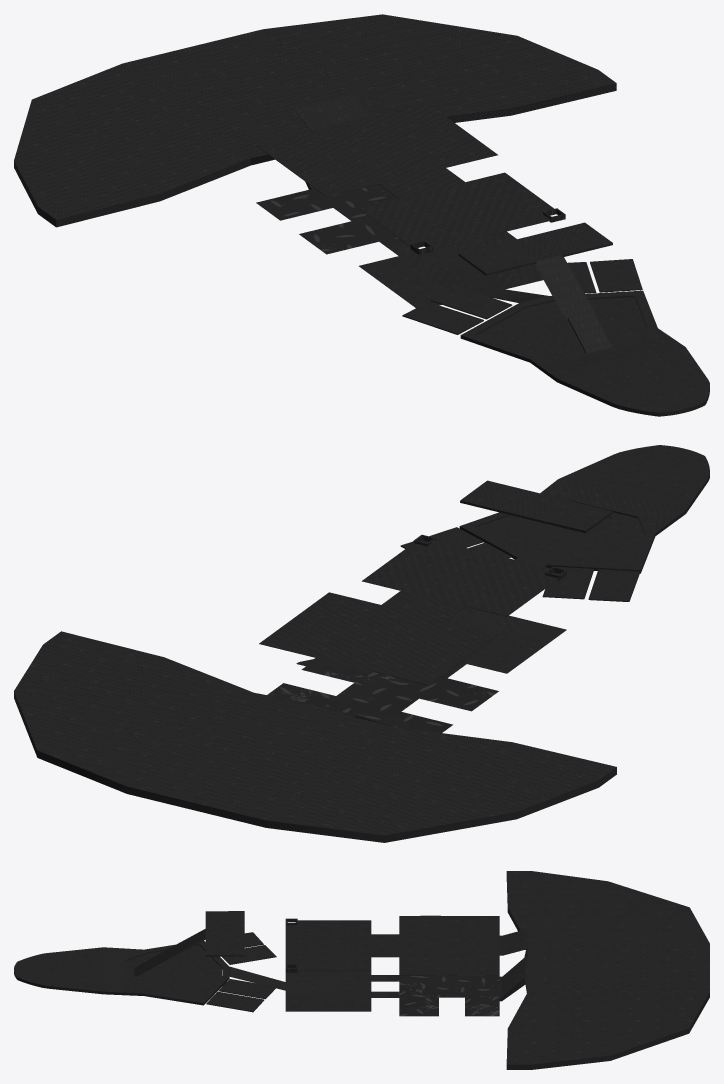
File: small floor.fbx
The picture shows the model from 3 angles, top to bottom: view 1: azimuth 30°, elevation 25°; view 2: azimuth 150°, elevation 25°; view 3: azimuth 270°, elevation 25°; orthographic projection. The views are drawn at different scales.
Parts seen in each view (by area): view 1: EngineRoomFloor, Top Rooms Floor/ Bottom Rooms Ceiling, FrontRoomFloor, Cockpit Ramp, ModularRoomFloor.003, FrontRoomFloorDivet, ModularRoomFloor, Upper Corridor 1 Floor, Bedroom4Floor, Bedroom2Floor, Bedroom1Floor; view 2: EngineRoomFloor, Top Rooms Floor/ Bottom Rooms Ceiling, FrontRoomFloor, ModularRoomFloor, FrontRoomFloorDivet, ModularRoomFloor.003, Cockpit Ramp, Bedroom1Floor, Bedroom2Floor, Upper Corridor 1 Floor, Bedroom4Floor; view 3: EngineRoomFloor, Top Rooms Floor/ Bottom Rooms Ceiling, FrontRoomFloor, ModularRoomFloor.003, ModularRoomFloor, FrontRoomFloorDivet, Cockpit Ramp, Bedroom4Floor, Bedroom3Floor, Upper Corridor 1 Floor, Bedroom2Floor.
Part boxes in pixels (x1,y1,x2,y2): EngineRoomFloor: (14, 14, 616, 227); Top Rooms Floor/ Bottom Rooms Ceiling: (256, 103, 565, 254); FrontRoomFloor: (460, 290, 709, 416); Cockpit Ramp: (458, 222, 612, 353); ModularRoomFloor.003: (359, 231, 547, 307); FrontRoomFloorDivet: (477, 297, 646, 360); ModularRoomFloor: (256, 184, 547, 302); Upper Corridor 1 Floor: (293, 94, 369, 130); Bedroom4Floor: (590, 259, 642, 292); Bedroom2Floor: (430, 286, 512, 319); Bedroom1Floor: (402, 302, 483, 334); EngineRoomFloor: (14, 631, 616, 842); Top Rooms Floor/ Bottom Rooms Ceiling: (259, 534, 566, 685); FrontRoomFloor: (459, 445, 709, 573); ModularRoomFloor: (267, 565, 546, 732); FrontRoomFloorDivet: (476, 512, 644, 565); ModularRoomFloor.003: (448, 558, 566, 673); Cockpit Ramp: (460, 480, 612, 533); Bedroom1Floor: (588, 569, 640, 601); Bedroom2Floor: (542, 566, 593, 599); Upper Corridor 1 Floor: (296, 657, 372, 677); Bedroom4Floor: (400, 527, 483, 548); EngineRoomFloor: (499, 871, 709, 1069); Top Rooms Floor/ Bottom Rooms Ceiling: (285, 915, 499, 975); FrontRoomFloor: (14, 940, 229, 1005); ModularRoomFloor.003: (229, 966, 386, 1011); ModularRoomFloor: (229, 967, 499, 1016); FrontRoomFloorDivet: (126, 945, 221, 998); Cockpit Ramp: (134, 911, 244, 976); Bedroom4Floor: (206, 991, 264, 1012); Bedroom3Floor: (218, 979, 276, 999); Upper Corridor 1 Floor: (499, 929, 527, 955); Bedroom2Floor: (222, 945, 276, 964).
Bounding box in the file's own units: 7800 × 1101 × 11860.
1 material, 1 textured.
